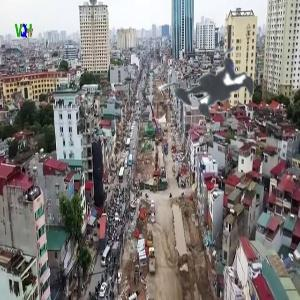drone: (141, 12, 293, 164)
